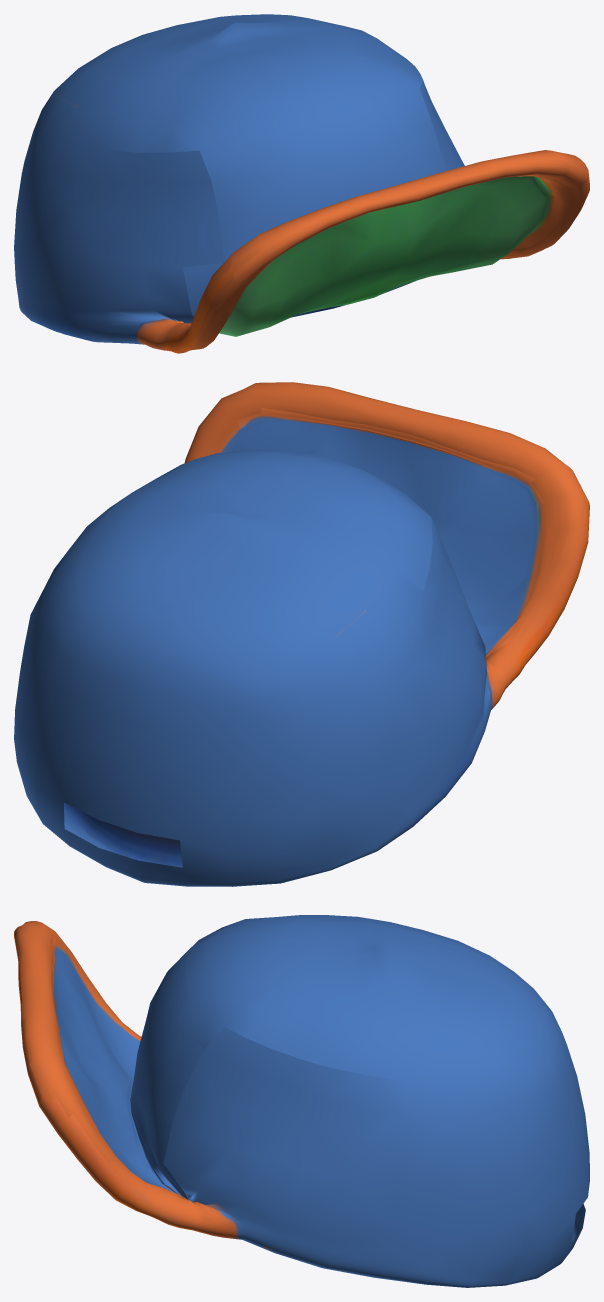
The model's file is Flipped-Brim-Blue.glb.
3 renders of one model, top to bottom at view 1: azimuth 30°, elevation 25°; view 2: azimuth 150°, elevation 25°; view 3: azimuth 270°, elevation 25°, orthographic.
Visible parts, largest first — view 1: Flipped-Brim-Blue; view 2: Flipped-Brim-Blue; view 3: Flipped-Brim-Blue.
Part boxes in pixels (box(x1,y1,x2,y2)): Flipped-Brim-Blue: box(14, 14, 589, 353); Flipped-Brim-Blue: box(14, 382, 589, 886); Flipped-Brim-Blue: box(14, 915, 589, 1287).
Size of the model in its own units: 0.426 by 0.3071 by 0.5373.
Materials: 1 (1 with a texture image).
